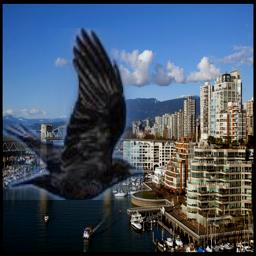Crow: (3, 28, 143, 200)
